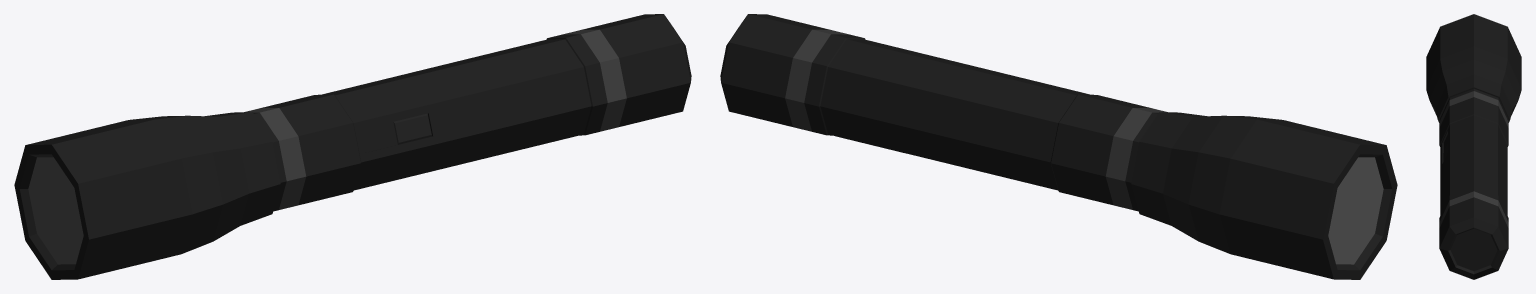
The model's file is Flashlight.fbx.
3 renders of one model, left to right at view 1: azimuth 30°, elevation 25°; view 2: azimuth 150°, elevation 25°; view 3: azimuth 270°, elevation 25°, orthographic. The views are drawn at different scales.
Visible parts, largest first — view 1: Flashlight; view 2: Flashlight; view 3: Flashlight.
Boxes of the visible parts, left/top/right/bottom form: Flashlight: left=14, top=14, right=691, bottom=279; Flashlight: left=720, top=14, right=1397, bottom=279; Flashlight: left=1426, top=14, right=1521, bottom=279.
Bounding box in the file's own units: 843 × 176 × 176.
1 material, 1 textured.
